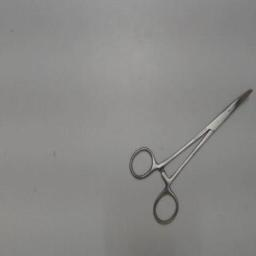Crile Artery Forceps: (126, 83, 254, 229)
